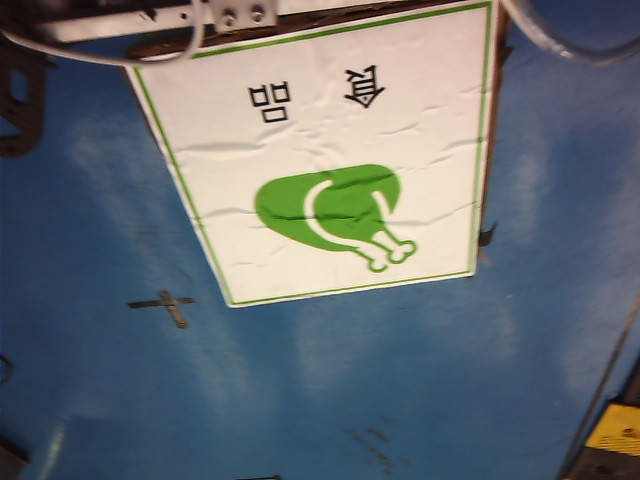Cube_food: (211, 55, 444, 281)
